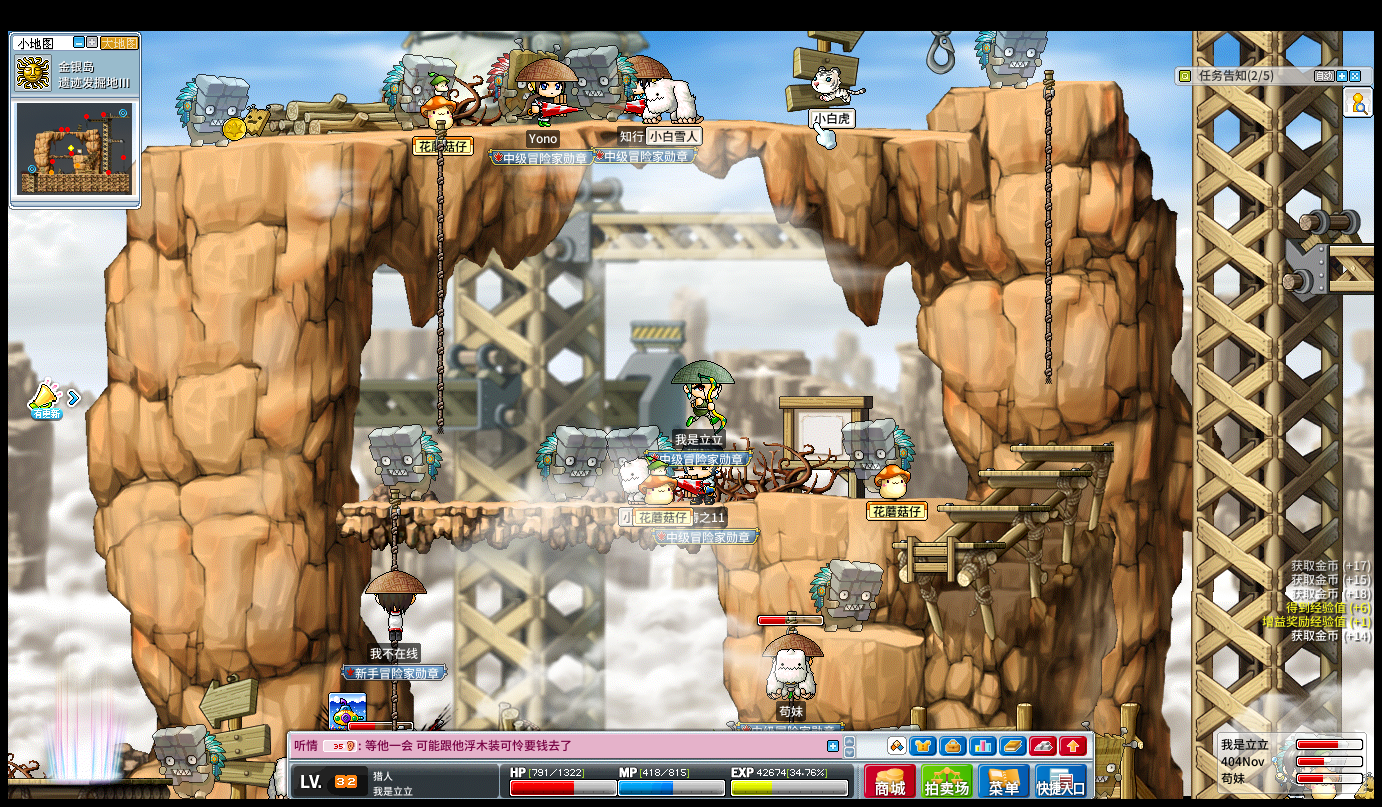floor: (147, 115, 986, 147), (340, 498, 718, 511), (944, 75, 1122, 90), (809, 625, 924, 647), (757, 493, 973, 503), (973, 464, 1089, 477), (935, 503, 1049, 516), (975, 468, 1088, 481), (837, 498, 970, 507), (815, 494, 963, 502), (838, 495, 968, 504), (890, 541, 1004, 550), (1009, 443, 1113, 452), (1318, 241, 1378, 255)
monster: (368, 424, 444, 502), (175, 72, 251, 148), (535, 424, 608, 502), (810, 558, 884, 633), (568, 45, 633, 123), (160, 725, 226, 793), (381, 53, 439, 130), (974, 28, 1044, 89), (845, 418, 915, 469), (607, 424, 671, 466)
rope: (1040, 58, 1055, 389), (433, 119, 446, 448), (386, 493, 401, 570)
